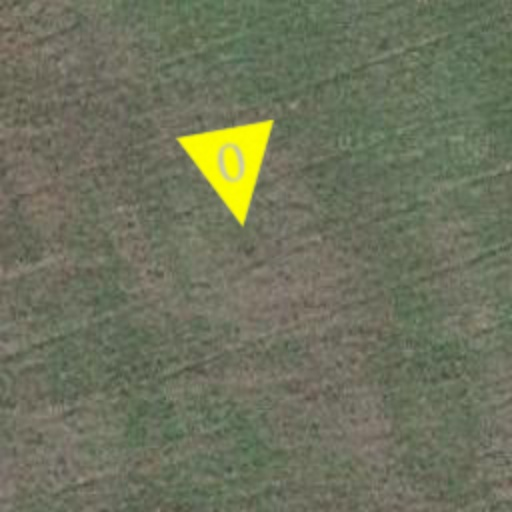triangle: (176, 120, 292, 236)
